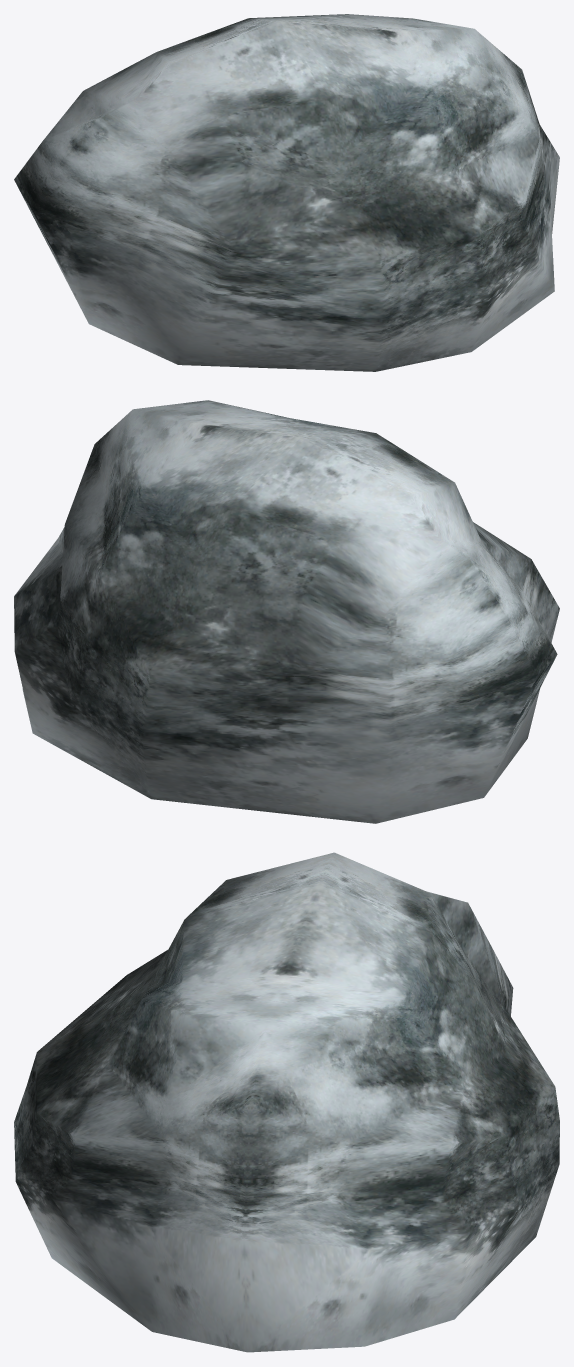
File: S_Rock_White003.FBX
3 views of the same model, one above another, from view 1: azimuth 30°, elevation 25°; view 2: azimuth 150°, elevation 25°; view 3: azimuth 270°, elevation 25° (orthographic). The views are drawn at different scales.
Visible parts, largest first — view 1: S_Rock_White003; view 2: S_Rock_White003; view 3: S_Rock_White003.
Boxes of the visible parts, <box> form: S_Rock_White003: <box>14,14,559,371</box>; S_Rock_White003: <box>14,400,559,823</box>; S_Rock_White003: <box>14,852,559,1352</box>.
Bounding box in the file's own units: 410 × 336 × 221.
